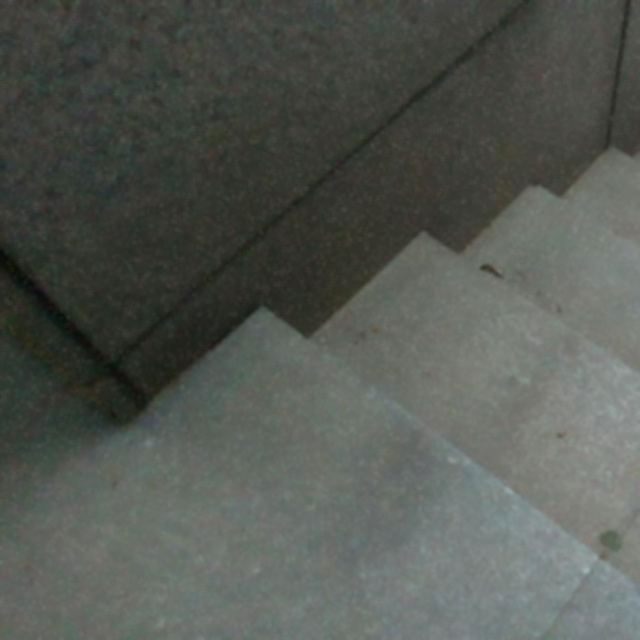stair: (154, 296, 640, 604)
